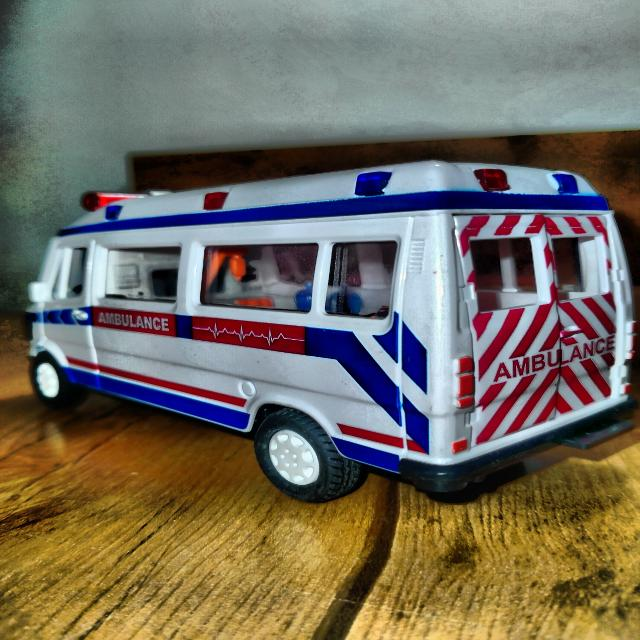Ambulance: (26, 160, 636, 502)
